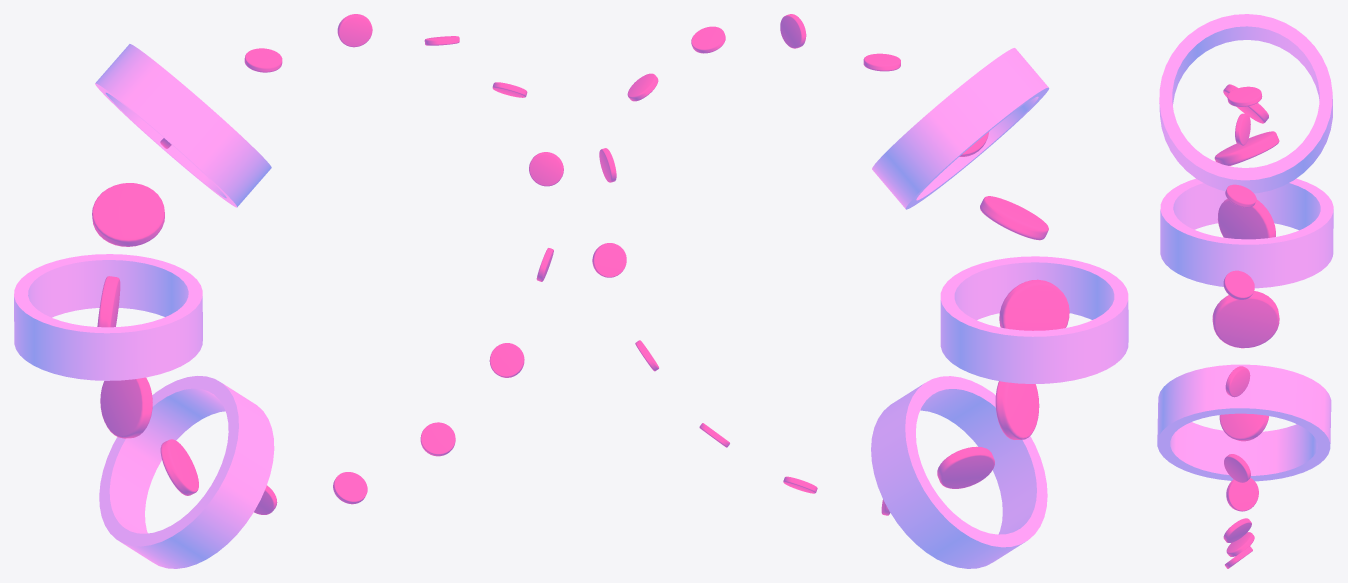
The model's file is liquidity.glb.
3 views of the same model, side by side, from view 1: azimuth 30°, elevation 25°; view 2: azimuth 150°, elevation 25°; view 3: azimuth 270°, elevation 25° (orthographic). The views are drawn at different scales.
Visible parts, largest first — view 1: Tube_1, Tube_0, Tube_2, Cylinder_1, Cylinder_14, Cylinder_13, Cylinder_9, Cylinder_10, Cylinder_7, Cylinder_0, Cylinder_4, Cylinder_11 (+1 smaller); view 2: Tube_0, Tube_1, Tube_2, Cylinder_0, Cylinder_14, Cylinder_13, Cylinder_1, Cylinder_8, Cylinder_5, Cylinder_4; view 3: Tube_0, Tube_1, Tube_2, Cylinder_14, Cylinder_0, Cylinder_1, Cylinder_13, Cylinder_12, Cylinder_6, Cylinder_3, Cylinder_7, Cylinder_8 (+5 smaller).
Part boxes in pixels (x1,y1,x2,y2): Tube_1: (14,254,202,380); Tube_0: (99,376,274,568); Tube_2: (95,44,271,207); Cylinder_1: (92,183,164,246); Cylinder_14: (100,377,152,438); Cylinder_13: (160,439,198,495); Cylinder_9: (489,343,524,377); Cylinder_10: (420,422,455,456); Cylinder_7: (529,152,563,186); Cylinder_0: (97,276,120,327); Cylinder_4: (337,14,372,47); Cylinder_11: (333,472,367,504); Tube_0: (871,376,1047,568); Tube_1: (940,256,1128,383); Tube_2: (872,48,1049,209); Cylinder_0: (999,279,1069,330); Cylinder_14: (995,381,1039,439); Cylinder_13: (937,446,994,488); Cylinder_1: (980,196,1048,240); Cylinder_8: (592,243,626,277); Cylinder_5: (691,26,725,53); Cylinder_4: (780,14,806,48); Tube_0: (1157,364,1331,481); Tube_1: (1160,178,1333,288); Tube_2: (1159,14,1332,193); Cylinder_14: (1212,291,1279,348); Cylinder_0: (1217,199,1275,239); Cylinder_1: (1214,131,1279,165); Cylinder_13: (1219,413,1268,441); Cylinder_12: (1226,478,1258,511); Cylinder_6: (1223,270,1254,299); Cylinder_3: (1227,86,1262,106); Cylinder_7: (1225,366,1250,397); Cylinder_8: (1224,454,1250,482).
Size of the model in its own units: 4.06 by 3.73 by 1.28.
